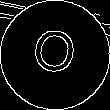O_S: (29, 26, 81, 84)
